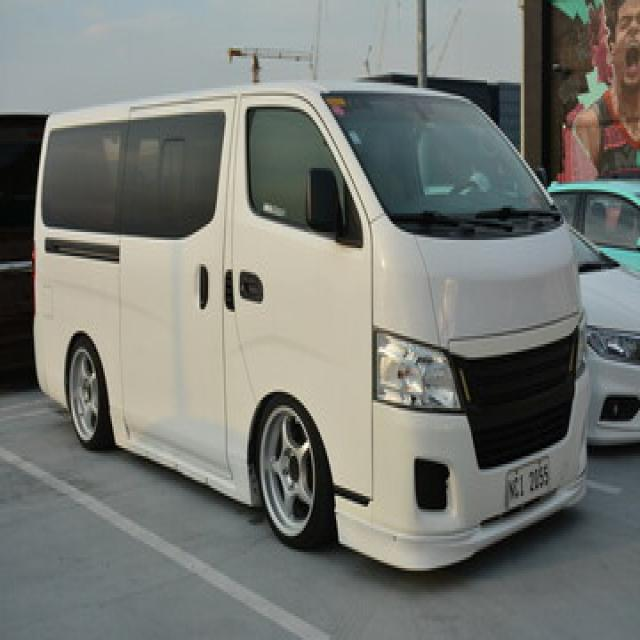car: (571, 229, 638, 443), (551, 184, 638, 272)
van: (34, 83, 587, 568)
